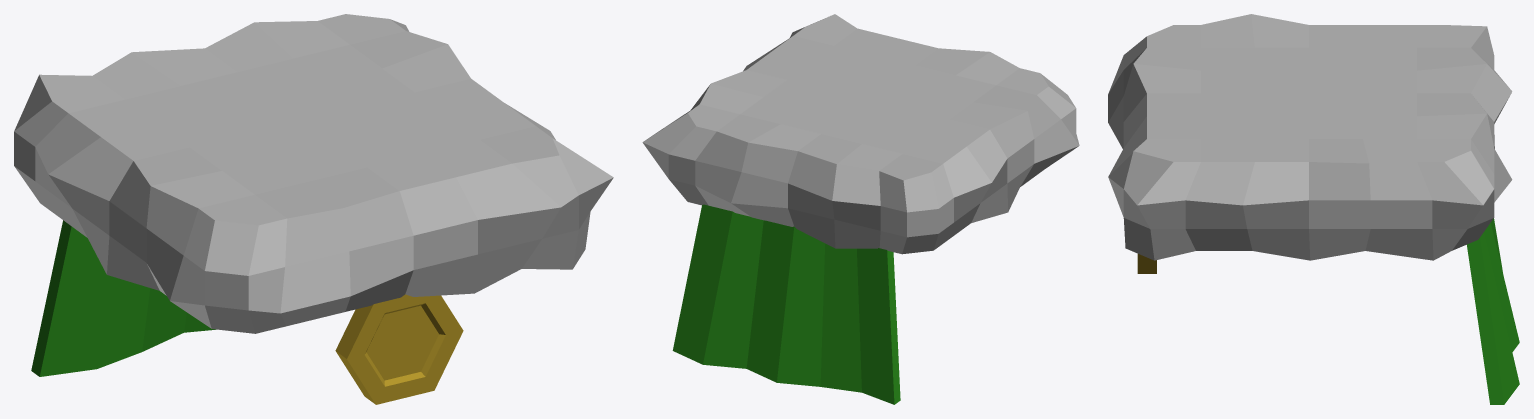
File: playerCapeGreen.fbx
The picture shows the model from 3 angles, left to right: view 1: azimuth 30°, elevation 25°; view 2: azimuth 150°, elevation 25°; view 3: azimuth 270°, elevation 25°; orthographic projection. The views are drawn at different scales.
Parts seen in each view (by area): view 1: Player Cape - Green; view 2: Player Cape - Green; view 3: Player Cape - Green.
Boxes of the visible parts, x1,y1,x2,y2 form: Player Cape - Green: (14, 14, 613, 404); Player Cape - Green: (642, 14, 1079, 404); Player Cape - Green: (1108, 14, 1519, 404).
Size of the model in its own units: 98.85 by 101 by 68.25.
